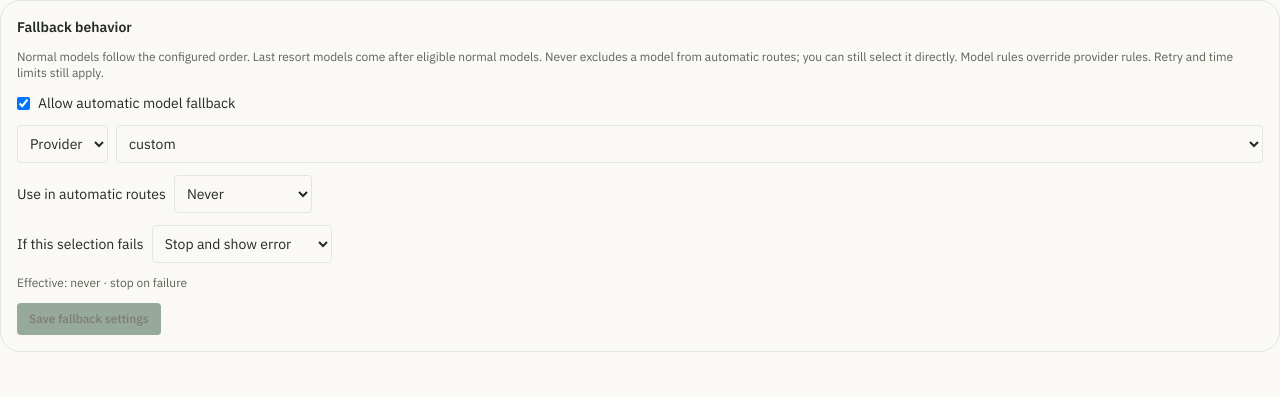
Test: preserves edits when the save response is malformed
Select "Last resort" in the dropdown named "Automatic fallback participation": (243, 194) [174,175,312,213]
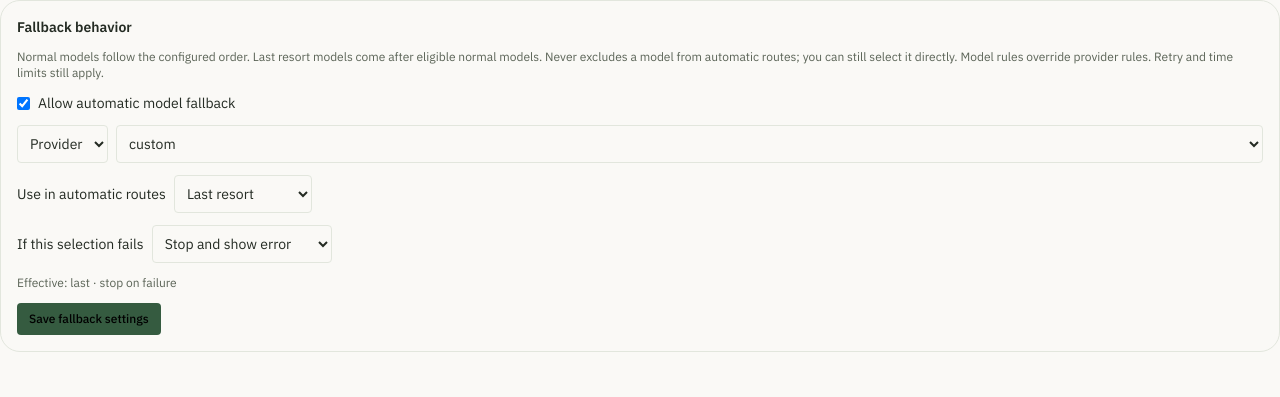
Click the button "Save fallback settings": (89, 319) [17,303,161,335]
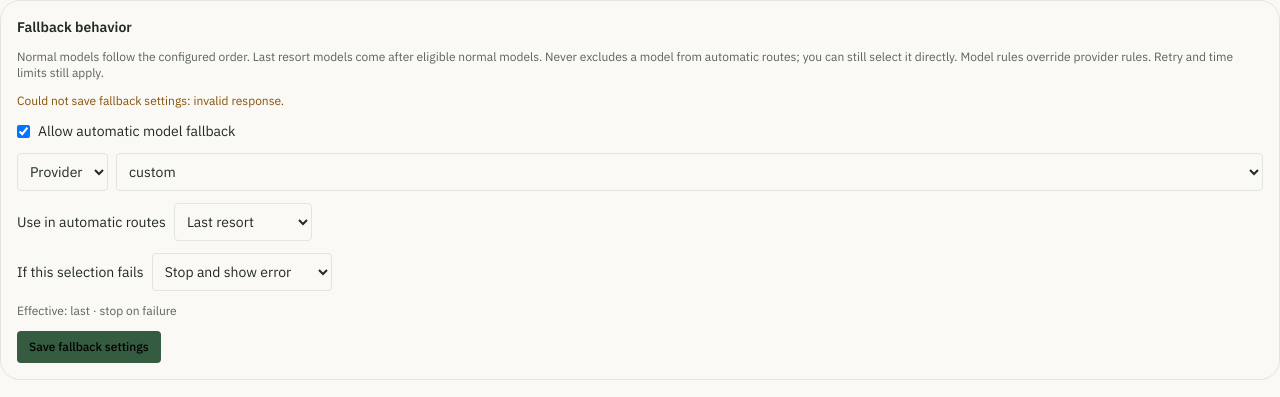
Now the button "Save fallback settings" is enabled, box [17,331,161,363]
Now the message shows "invalid response", box [17,93,284,108]
